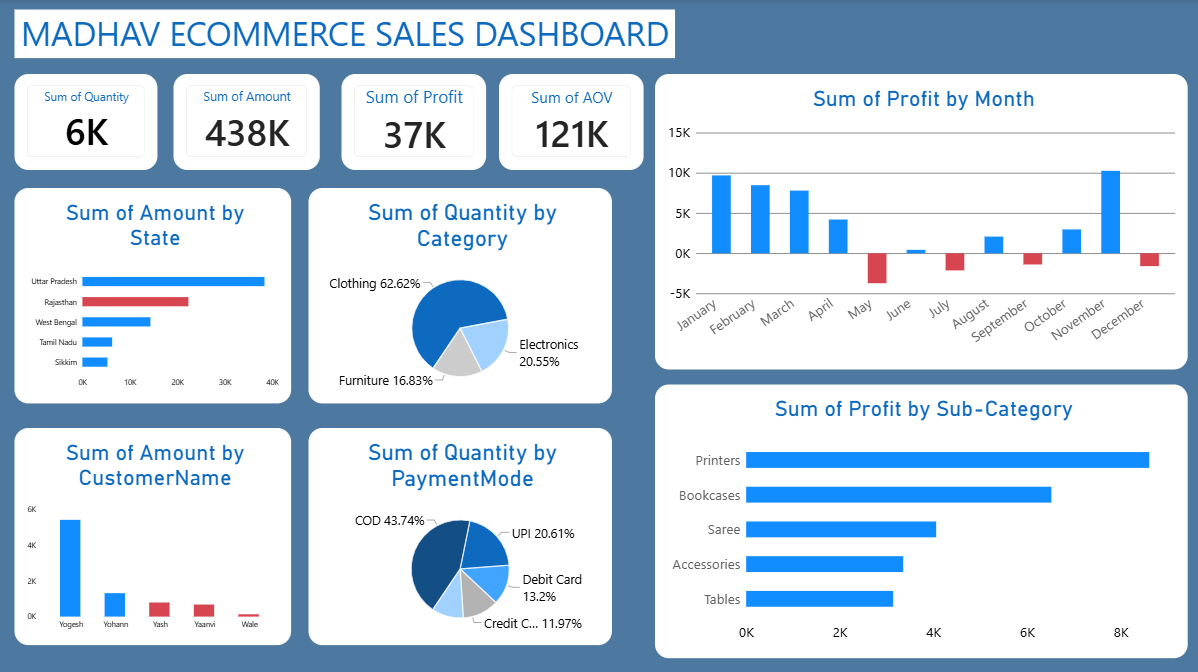

Layout of this report page (visuals, bound fields, positions):
{"tool":"powerbi","page":{"name":"Page 1","canvas":[1920,1080],"ordinal":0},"visuals":[{"type":"textbox","box":[30,17.5,1050.8,77.5],"z":0},{"type":"columnChart","fields":{"Category":["Orders.Order Date.Variation.Date Hierarchy.Month"],"Y":["Sum(Details.Profit)"]},"box":[1050,120,847.5,470],"z":1000},{"type":"clusteredBarChart","fields":{"Category":["Details.Sub-Category"],"Y":["Sum(Details.Profit)"]},"box":[1050,612.5,847.5,435],"z":2000},{"type":"pieChart","fields":{"Category":["Details.Category"],"Y":["Sum(Details.Quantity)"]},"box":[497.5,300,482.5,342.5],"z":3000},{"type":"pieChart","fields":{"Category":["Details.PaymentMode"],"Y":["Sum(Details.Quantity)"]},"box":[497.5,682.5,482.5,345],"z":4000},{"type":"cardVisual","fields":{"Data":["Sum(Details.Amount)"]},"box":[285,120,232.5,152.5],"z":5000},{"type":"cardVisual","fields":{"Data":["Sum(Details.Quantity)"]},"box":[30,120,227.5,152.5],"z":6000},{"type":"cardVisual","fields":{"Data":["Sum(Details.Profit)"]},"box":[550,120,230,152.5],"z":7000},{"type":"cardVisual","fields":{"Data":["Sum(Details.newcolm)"]},"box":[802.5,120,230,152.5],"z":8000},{"type":"clusteredBarChart","fields":{"Category":["Orders.State"],"Y":["Sum(Details.Amount)"]},"box":[30,300,440,342.5],"z":9000},{"type":"clusteredColumnChart","fields":{"Category":["Orders.CustomerName"],"Y":["Sum(Details.Amount)"]},"box":[30,682.5,440,345],"z":10000}]}

Visuals, with their boxes in screenshot pixels (x1, y1, x2, y2), scaled from the page's 1920x1080 canvas onto the 1198x672 screenshot:
textbox: bbox(19, 11, 674, 59)
columnChart - Orders.Order Date.Variation.Date Hierarchy.Month x Sum(Details.Profit): bbox(655, 75, 1184, 367)
clusteredBarChart - Details.Sub-Category x Sum(Details.Profit): bbox(655, 381, 1184, 652)
pieChart - Details.Category x Sum(Details.Quantity): bbox(310, 187, 611, 400)
pieChart - Details.PaymentMode x Sum(Details.Quantity): bbox(310, 425, 611, 639)
cardVisual - Sum(Details.Amount): bbox(178, 75, 323, 170)
cardVisual - Sum(Details.Quantity): bbox(19, 75, 161, 170)
cardVisual - Sum(Details.Profit): bbox(343, 75, 487, 170)
cardVisual - Sum(Details.newcolm): bbox(501, 75, 644, 170)
clusteredBarChart - Orders.State x Sum(Details.Amount): bbox(19, 187, 293, 400)
clusteredColumnChart - Orders.CustomerName x Sum(Details.Amount): bbox(19, 425, 293, 639)
